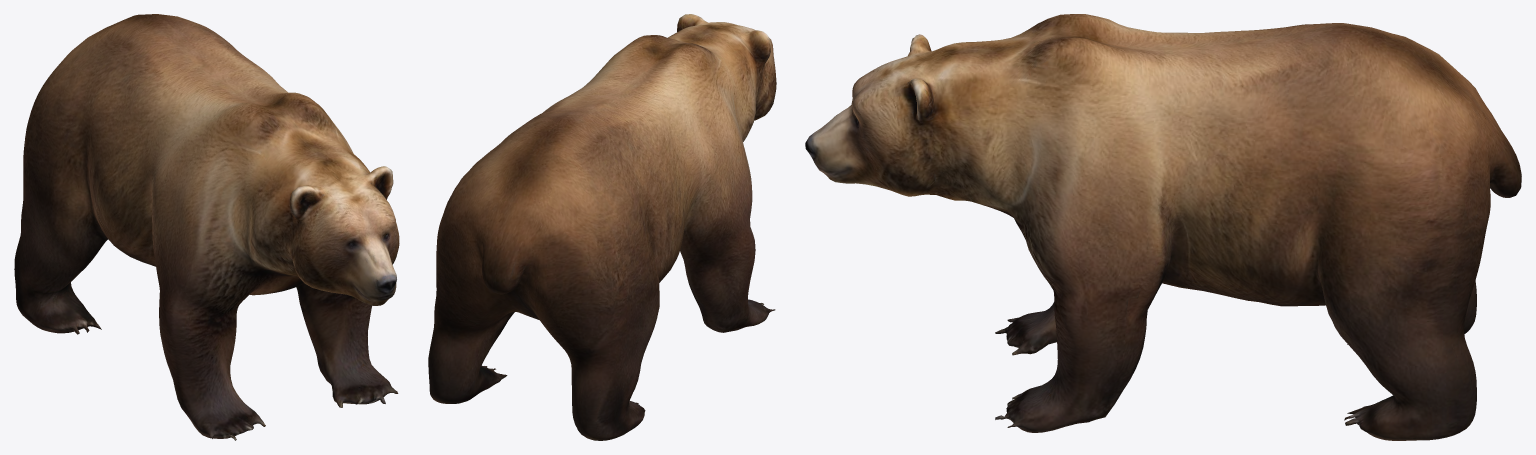
The model's file is brown-bear.glb.
3 views of the same model, side by side, from view 1: azimuth 30°, elevation 25°; view 2: azimuth 150°, elevation 25°; view 3: azimuth 270°, elevation 25° (orthographic). The views are drawn at different scales.
Size of the model in its own units: 0.8365 by 1.1 by 2.
1 material, 1 textured.
